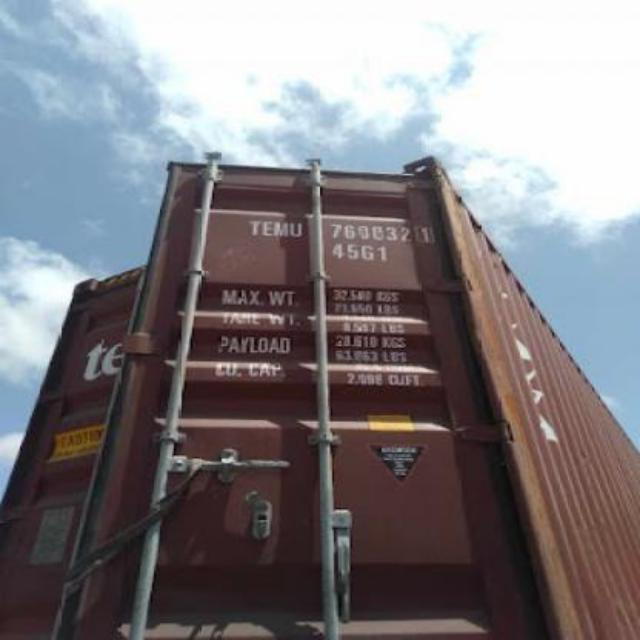0: (356, 225, 368, 241), (372, 224, 384, 240)
1: (420, 228, 432, 242)
2: (400, 227, 410, 243)
3: (386, 226, 400, 242)
6: (344, 225, 356, 241)
7: (330, 222, 342, 240)
E: (262, 220, 274, 238)
M: (274, 220, 288, 236)
T: (246, 220, 262, 236)
U: (289, 222, 303, 238)
